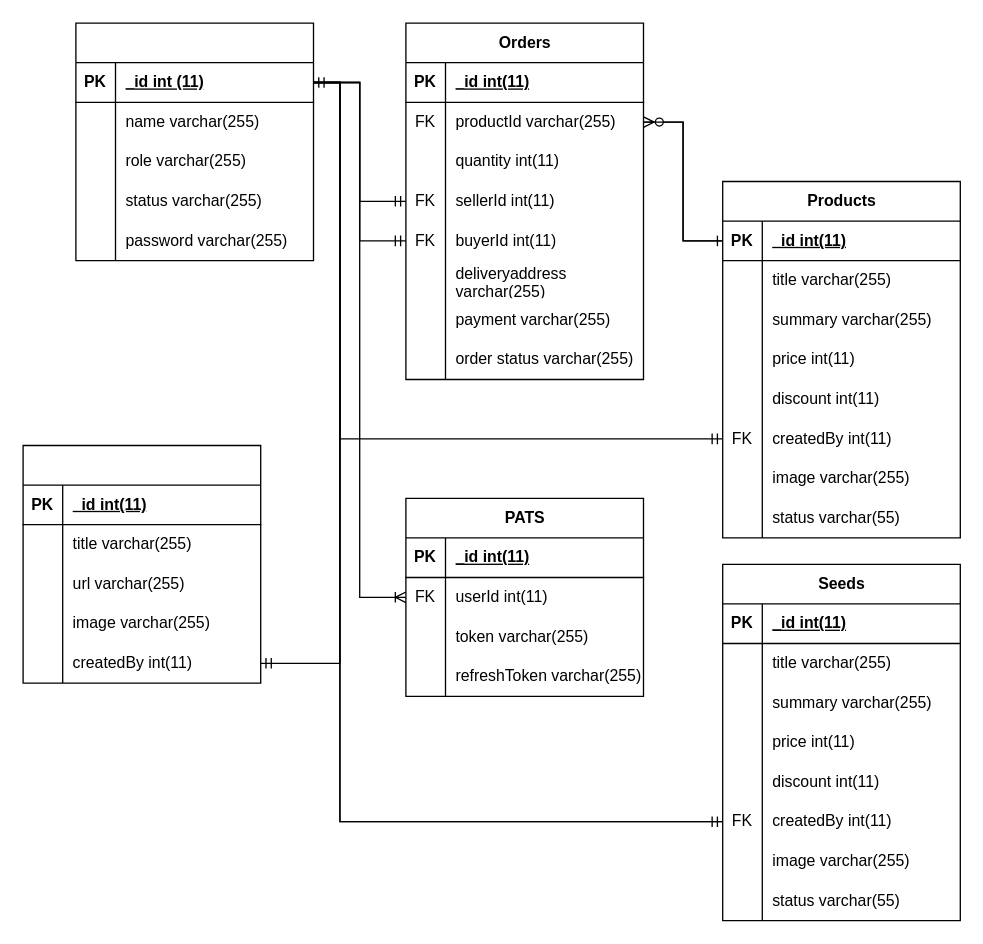
The diagram is 983 pixels wide and 944 high, and some of its shapes have lost their labels. Here are the shapes that lost their labels. From the top down, the box of each, then its label:
(75, 22, 314, 261): Users
(22, 444, 261, 683): Banners
